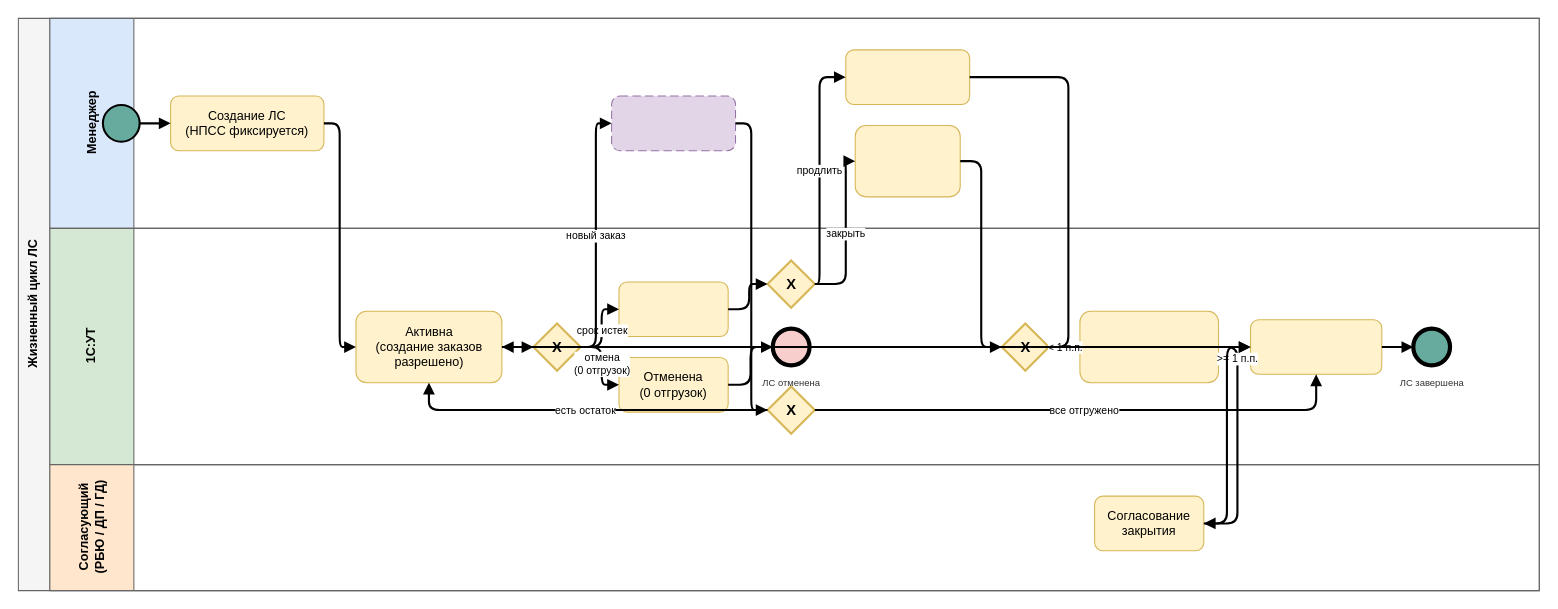
The diagram is 1558 pixels wide and 609 high, and some of its shapes have lost their labels. Here are the shapes that lost their labels. From the top down, the centre of each, then its label:
At [907,76]: "Продление (макс. 2 раза)".
At [673,123]: "Заказы клиента (см. BPMN 4)".
At [907,160]: "Закрытие с частичной отгрузкой".
At [673,309]: "Истекла (срок вышел)".
At [1149,346]: "Закрытие без согласования (< 1 п.п.)".
At [1316,346]: "Закрыта (все отгружено)".
